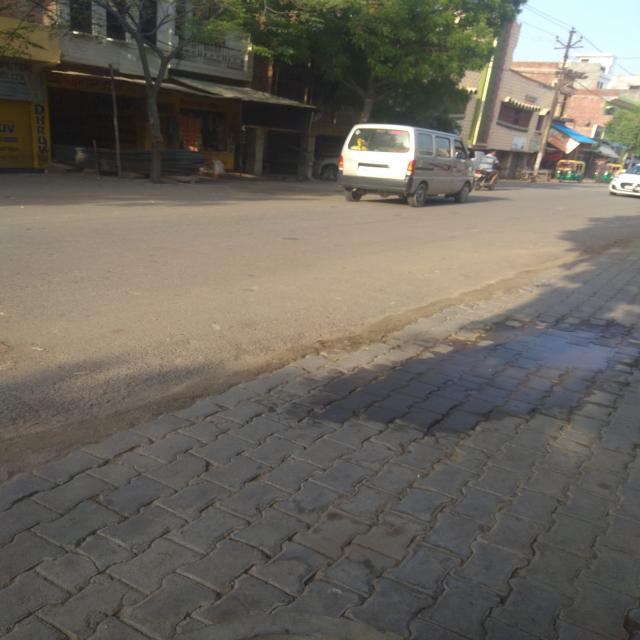Car: (339, 118, 469, 205)
